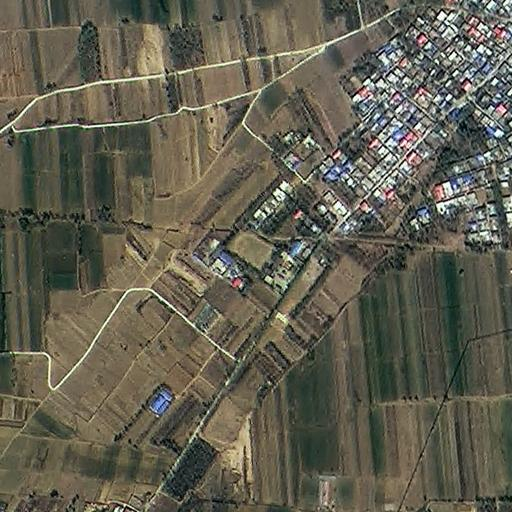school: (227, 224, 301, 295)
